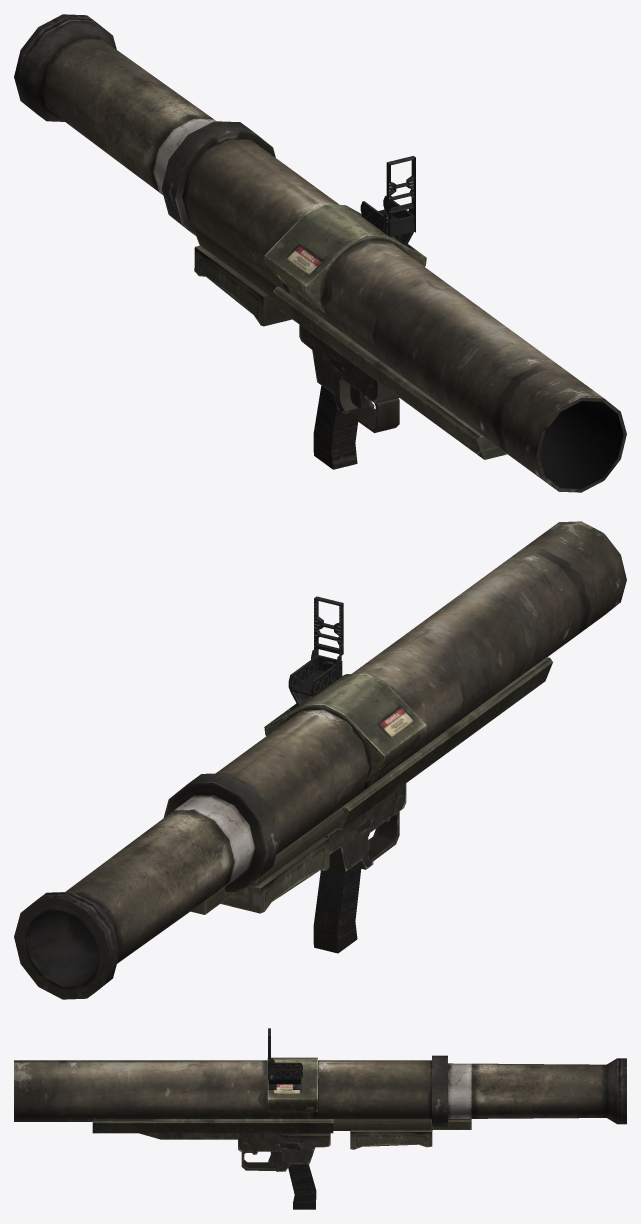
The model's file is Rocket.FBX.
The picture shows the model from 3 angles, top to bottom: view 1: azimuth 30°, elevation 25°; view 2: azimuth 150°, elevation 25°; view 3: azimuth 270°, elevation 25°; orthographic projection. The views are drawn at different scales.
Parts seen in each view (by area): view 1: Object03; view 2: Object03; view 3: Object03.
Boxes of the visible parts, bbox=[...] form: Object03: bbox=[14, 14, 626, 492]; Object03: bbox=[14, 521, 626, 999]; Object03: bbox=[14, 1028, 626, 1209].
Size of the model in its own units: 15.69 by 39.11 by 118.
